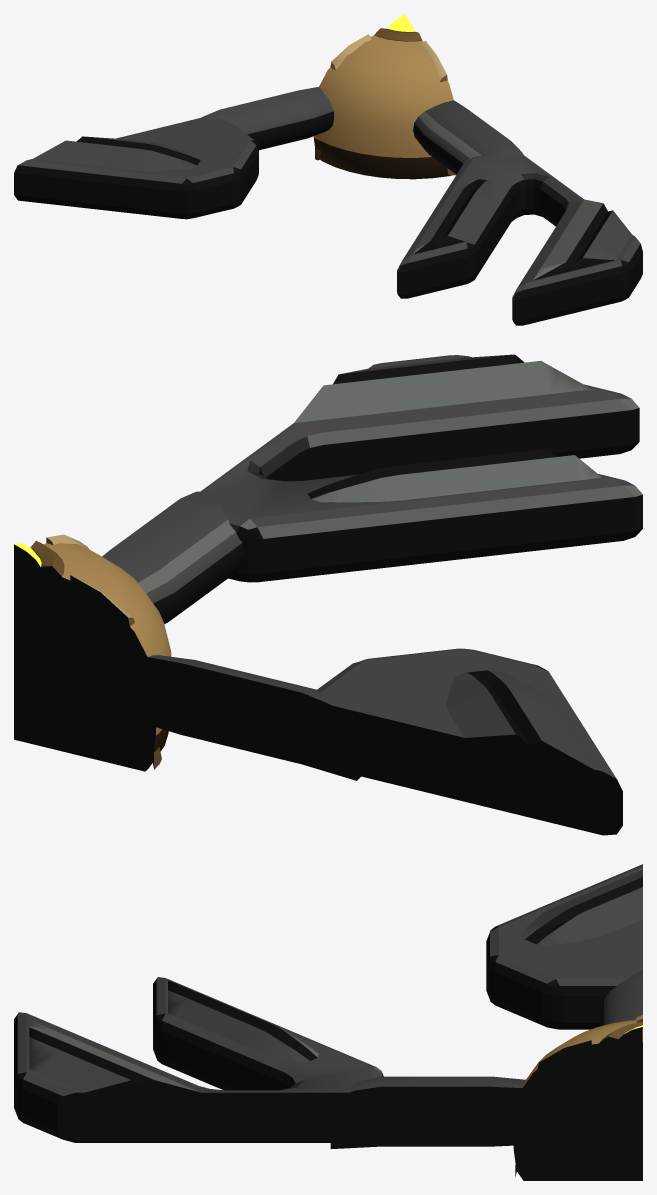
File: spin_claw_123.glb
3 renders of one model, top to bottom at view 1: azimuth 30°, elevation 25°; view 2: azimuth 150°, elevation 25°; view 3: azimuth 270°, elevation 25°, orthographic. The views are drawn at different scales.
Parts seen in each view (by area): view 1: spin_claw_123_arm2_plate, spin_claw_123_arm3_plate, spin_claw_123_hub_dome, spin_claw_123_arm3_rod, spin_claw_123_arm2_rod, spin_claw_123_arm2_ridge0, spin_claw_123_arm3_ridge0, spin_claw_123_arm2_ridge1, spin_claw_123_hub_bezel, spin_claw_123_hub_rib3; view 2: spin_claw_123_arm2_plate, spin_claw_123_arm3_plate, spin_claw_123_hub_dome, spin_claw_123_arm3_rod, spin_claw_123_arm2_ridge0, spin_claw_123_arm2_rod, spin_claw_123_arm2_ridge1, spin_claw_123_arm3_ridge0, spin_claw_123_hub_rib3, spin_claw_123_hub_bezel, spin_claw_123_hub_lens; view 3: spin_claw_123_arm2_plate, spin_claw_123_hub_dome, spin_claw_123_arm2_rod, spin_claw_123_arm3_plate, spin_claw_123_arm2_ridge0, spin_claw_123_arm3_ridge0, spin_claw_123_arm2_ridge1, spin_claw_123_arm3_rod, spin_claw_123_hub_bezel, spin_claw_123_hub_rib2.
Part boxes in pixels (<box>): spin_claw_123_arm2_plate: <box>397,154,642,325</box>; spin_claw_123_arm3_plate: <box>14,118,258,219</box>; spin_claw_123_hub_dome: <box>313,35,453,179</box>; spin_claw_123_arm3_rod: <box>201,87,333,150</box>; spin_claw_123_arm2_rod: <box>413,100,523,174</box>; spin_claw_123_arm2_ridge0: <box>533,199,631,280</box>; spin_claw_123_arm3_ridge0: <box>33,136,200,170</box>; spin_claw_123_arm2_ridge1: <box>414,179,492,254</box>; spin_claw_123_hub_bezel: <box>374,28,422,41</box>; spin_claw_123_hub_rib3: <box>315,34,371,160</box>; spin_claw_123_arm2_plate: <box>200,355,642,582</box>; spin_claw_123_arm3_plate: <box>296,648,622,835</box>; spin_claw_123_hub_dome: <box>14,543,171,771</box>; spin_claw_123_arm3_rod: <box>100,649,360,780</box>; spin_claw_123_arm2_ridge0: <box>294,354,591,422</box>; spin_claw_123_arm2_rod: <box>102,491,244,623</box>; spin_claw_123_arm2_ridge1: <box>307,448,602,502</box>; spin_claw_123_arm3_ridge0: <box>446,670,605,783</box>; spin_claw_123_hub_rib3: <box>70,575,161,769</box>; spin_claw_123_hub_bezel: <box>14,540,64,588</box>; spin_claw_123_hub_lens: <box>14,543,42,586</box>; spin_claw_123_arm2_plate: <box>14,977,386,1142</box>; spin_claw_123_hub_dome: <box>513,1020,642,1180</box>; spin_claw_123_arm2_rod: <box>330,1076,563,1148</box>; spin_claw_123_arm3_plate: <box>486,864,642,1029</box>; spin_claw_123_arm2_ridge0: <box>29,1020,212,1101</box>; spin_claw_123_arm3_ridge0: <box>521,870,642,946</box>; spin_claw_123_arm2_ridge1: <box>168,980,318,1061</box>; spin_claw_123_arm3_rod: <box>601,970,642,1025</box>; spin_claw_123_hub_bezel: <box>599,1022,642,1052</box>; spin_claw_123_hub_rib2: <box>515,1040,591,1176</box>.
Size of the model in its own units: 17.97 by 5.51 by 20.38.
